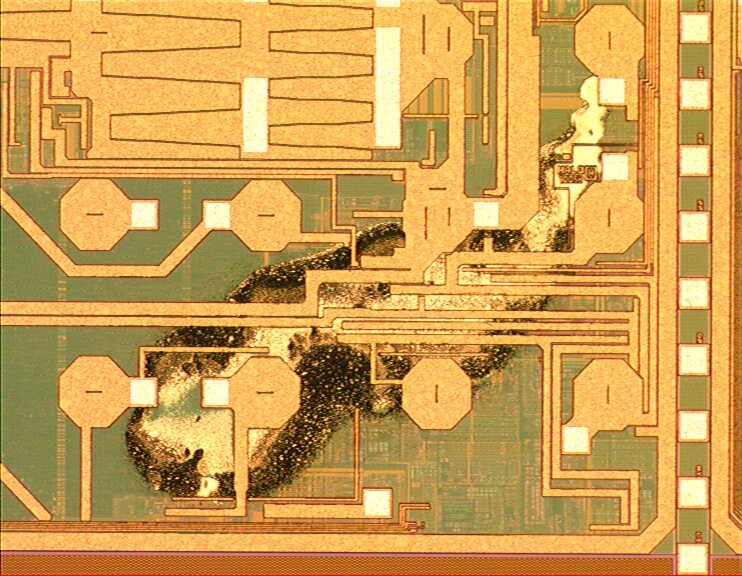BLOCK ETCH: (119, 74, 617, 511)
